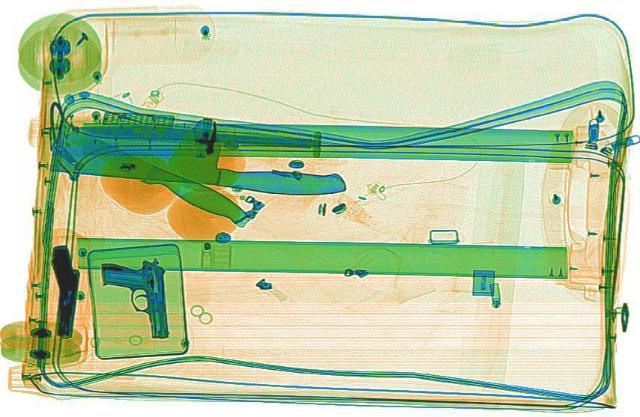Gun: (97, 257, 171, 340), (49, 240, 79, 337)
Knife: (44, 116, 356, 197), (52, 120, 256, 225), (73, 115, 313, 150)
